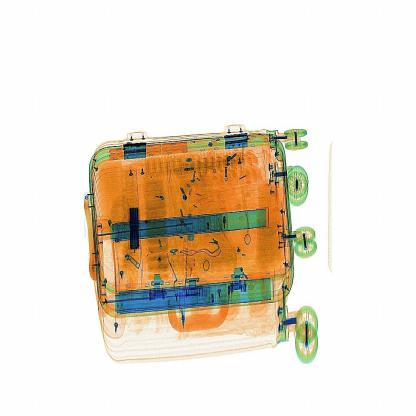scissors: (120, 194, 162, 268)
